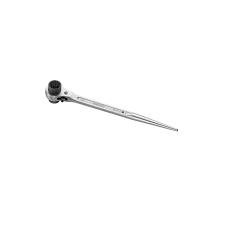wrench: (43, 78, 178, 132)
